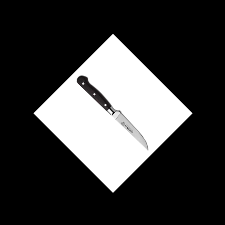k1: (106, 105, 150, 151)
